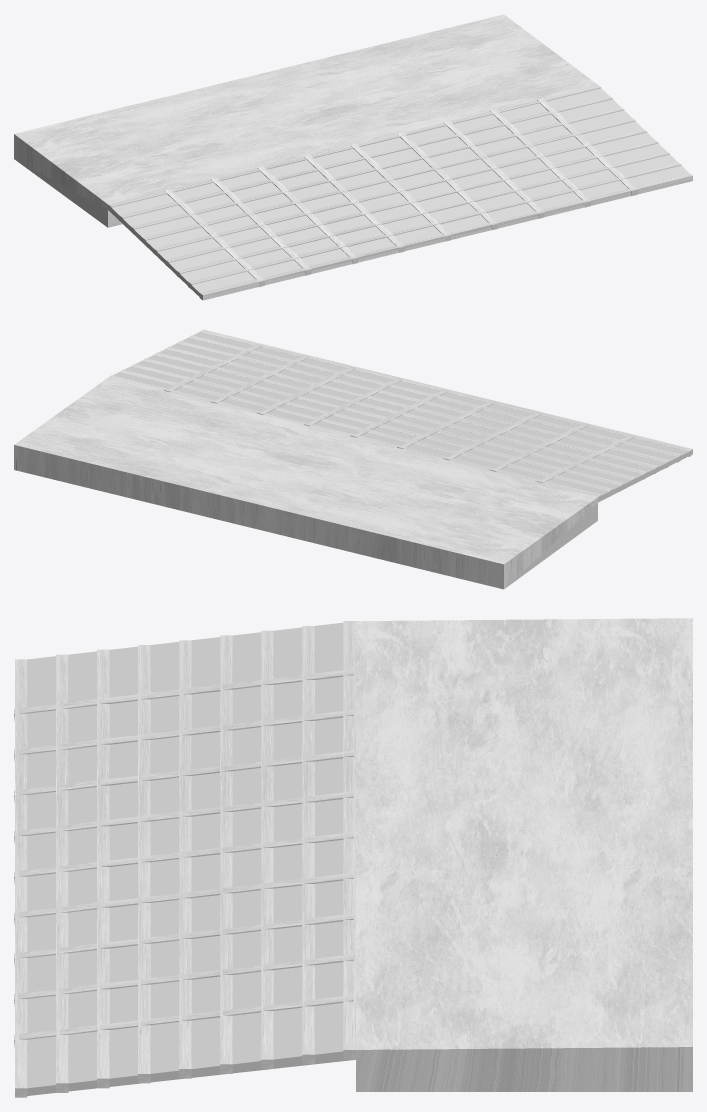
The model's file is Ceiling.fbx.
The picture shows the model from 3 angles, top to bottom: view 1: azimuth 30°, elevation 25°; view 2: azimuth 150°, elevation 25°; view 3: azimuth 270°, elevation 25°; orthographic projection. The views are drawn at different scales.
Parts seen in each view (by area): view 1: Cube.001; view 2: Cube.001; view 3: Cube.001.
Boxes of the visible parts, x1,y1,x2,y2 form: Cube.001: [14, 14, 692, 300]; Cube.001: [14, 329, 692, 589]; Cube.001: [14, 618, 692, 1097].
Size of the model in its own units: 454 by 25.3 by 304.
Materials: 2 (1 with a texture image).
